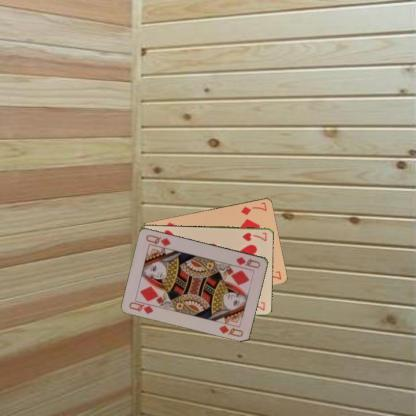7d: (238, 199, 268, 216)
7h: (240, 231, 269, 242)
Qd: (127, 297, 158, 315), (233, 254, 262, 270)
